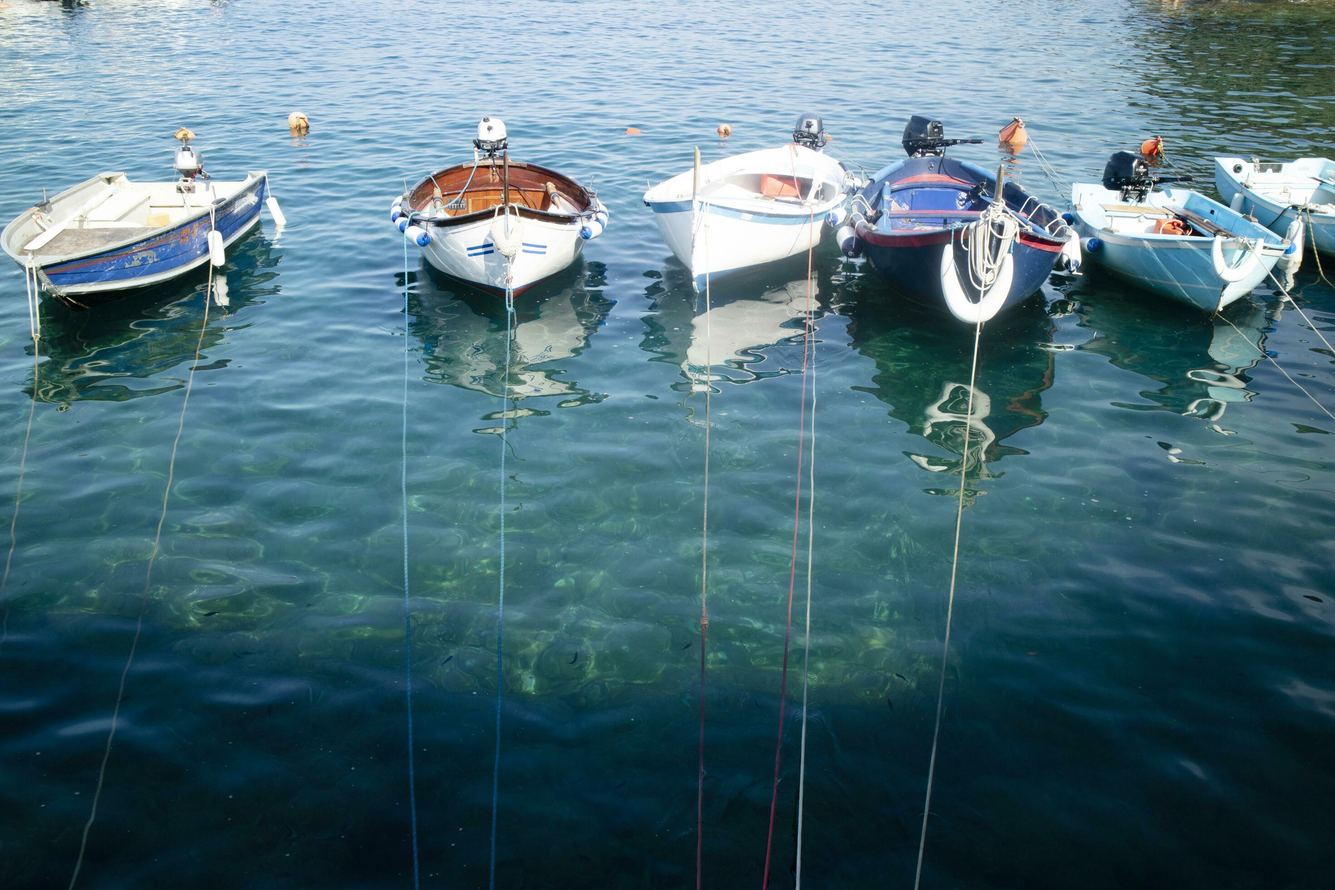fishing boat: (0, 119, 282, 301), (858, 107, 1076, 329), (387, 114, 613, 304), (635, 108, 856, 297), (1077, 128, 1299, 316), (1214, 120, 1335, 277)
